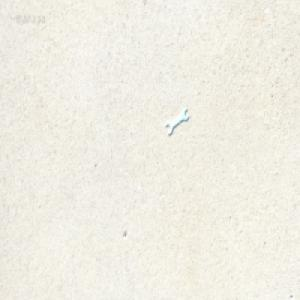Wrench: (165, 106, 187, 134)
